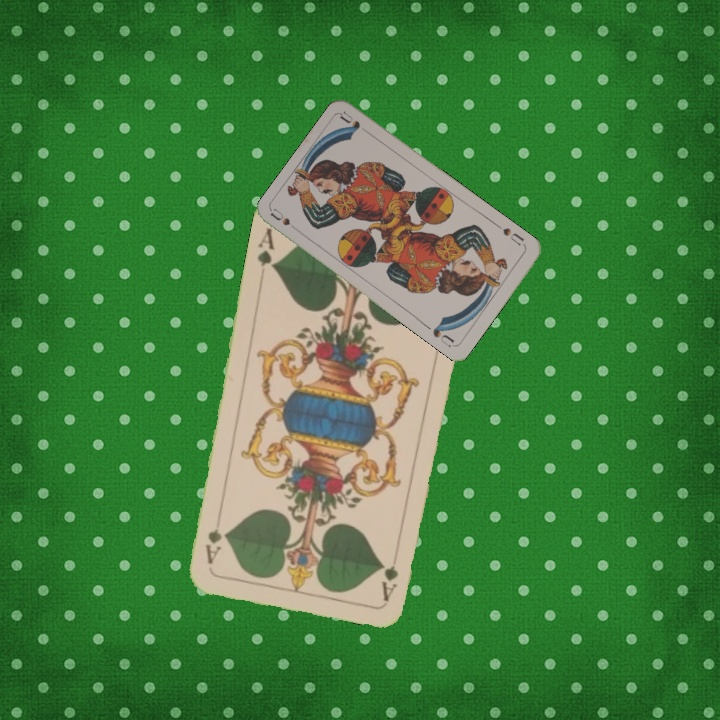GA: (378, 544, 402, 603), (253, 224, 279, 272)
SU: (267, 205, 304, 236), (493, 221, 528, 249)
